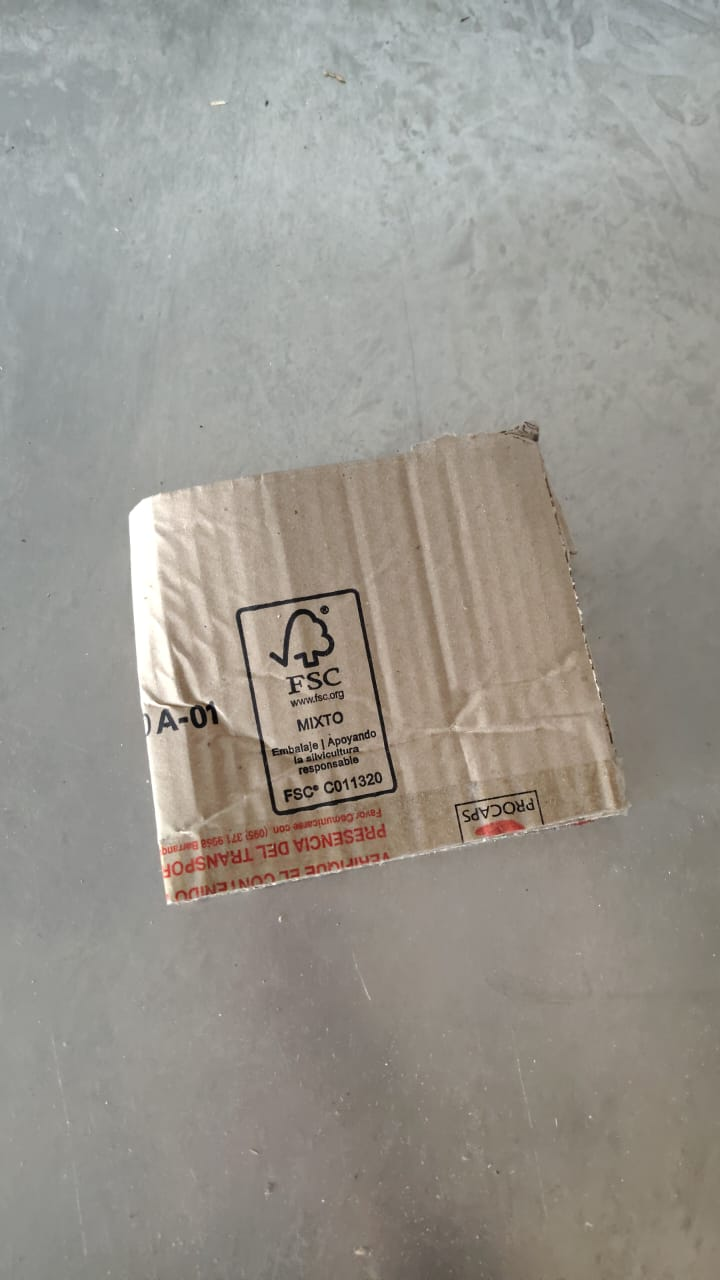Carton: (130, 427, 628, 909)
